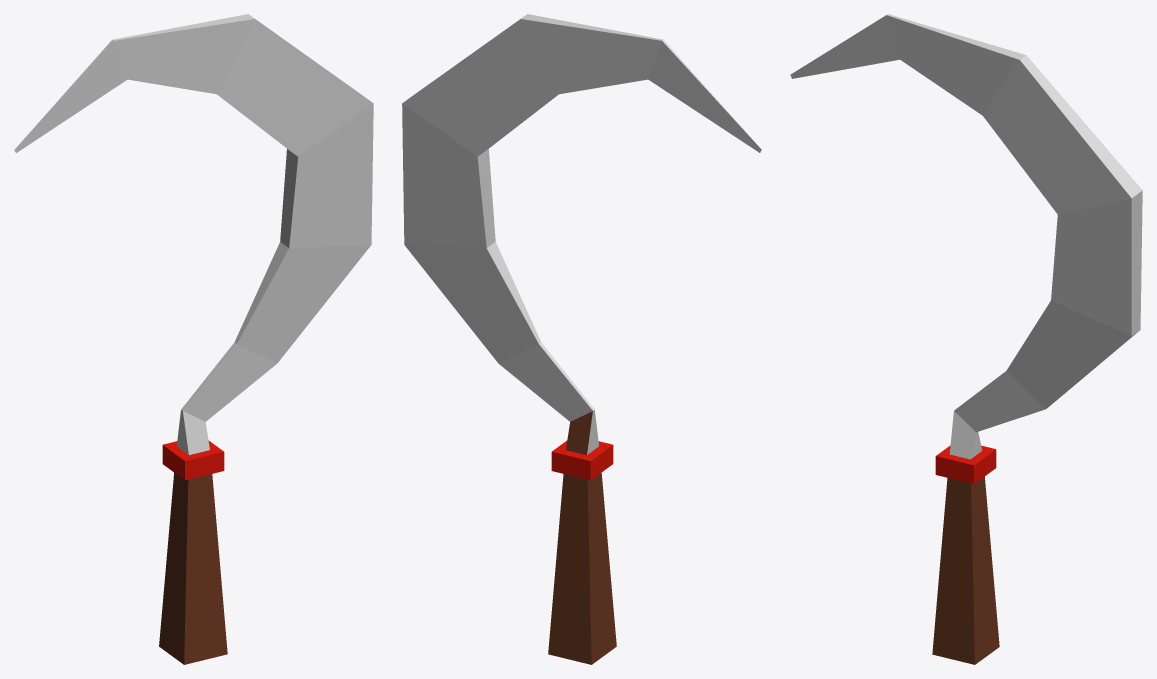
File: sickle.fbx
3 views of the same model, side by side, from view 1: azimuth 30°, elevation 25°; view 2: azimuth 150°, elevation 25°; view 3: azimuth 330°, elevation 25° (orthographic). The views are drawn at different scales.
Visible parts, largest first — view 1: Cube; view 2: Cube; view 3: Cube.
Boxes of the visible parts, bbox=[...] form: Cube: bbox=[14, 14, 373, 664]; Cube: bbox=[402, 14, 761, 664]; Cube: bbox=[790, 14, 1142, 664].
Size of the model in its own units: 106 by 180 by 13.
